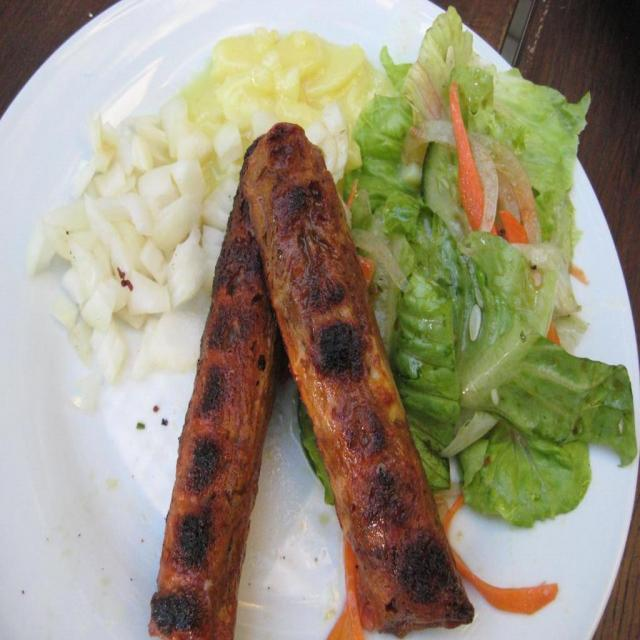Salad: (22, 2, 640, 640)
